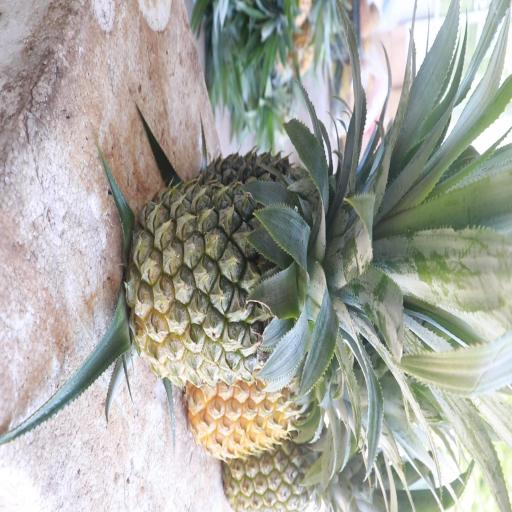------------------------------: (132, 164, 335, 382)
Pineapple - v8 v1: (191, 342, 323, 462)
